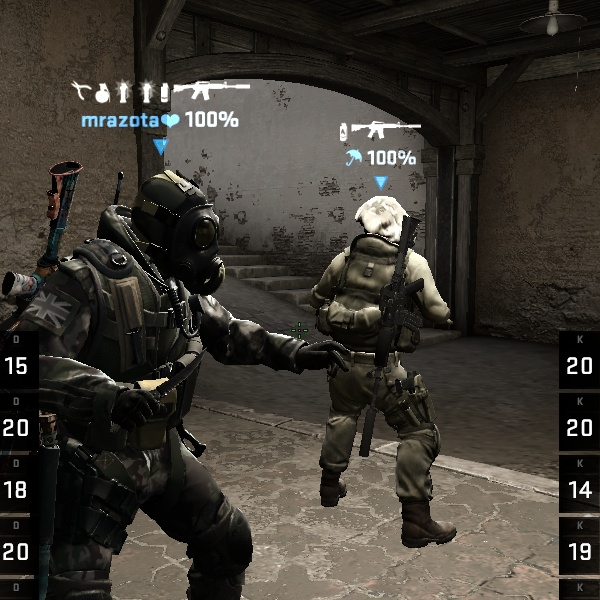ct_body: (19, 165, 285, 600), (296, 185, 474, 527)
ct_head: (346, 190, 417, 259)
